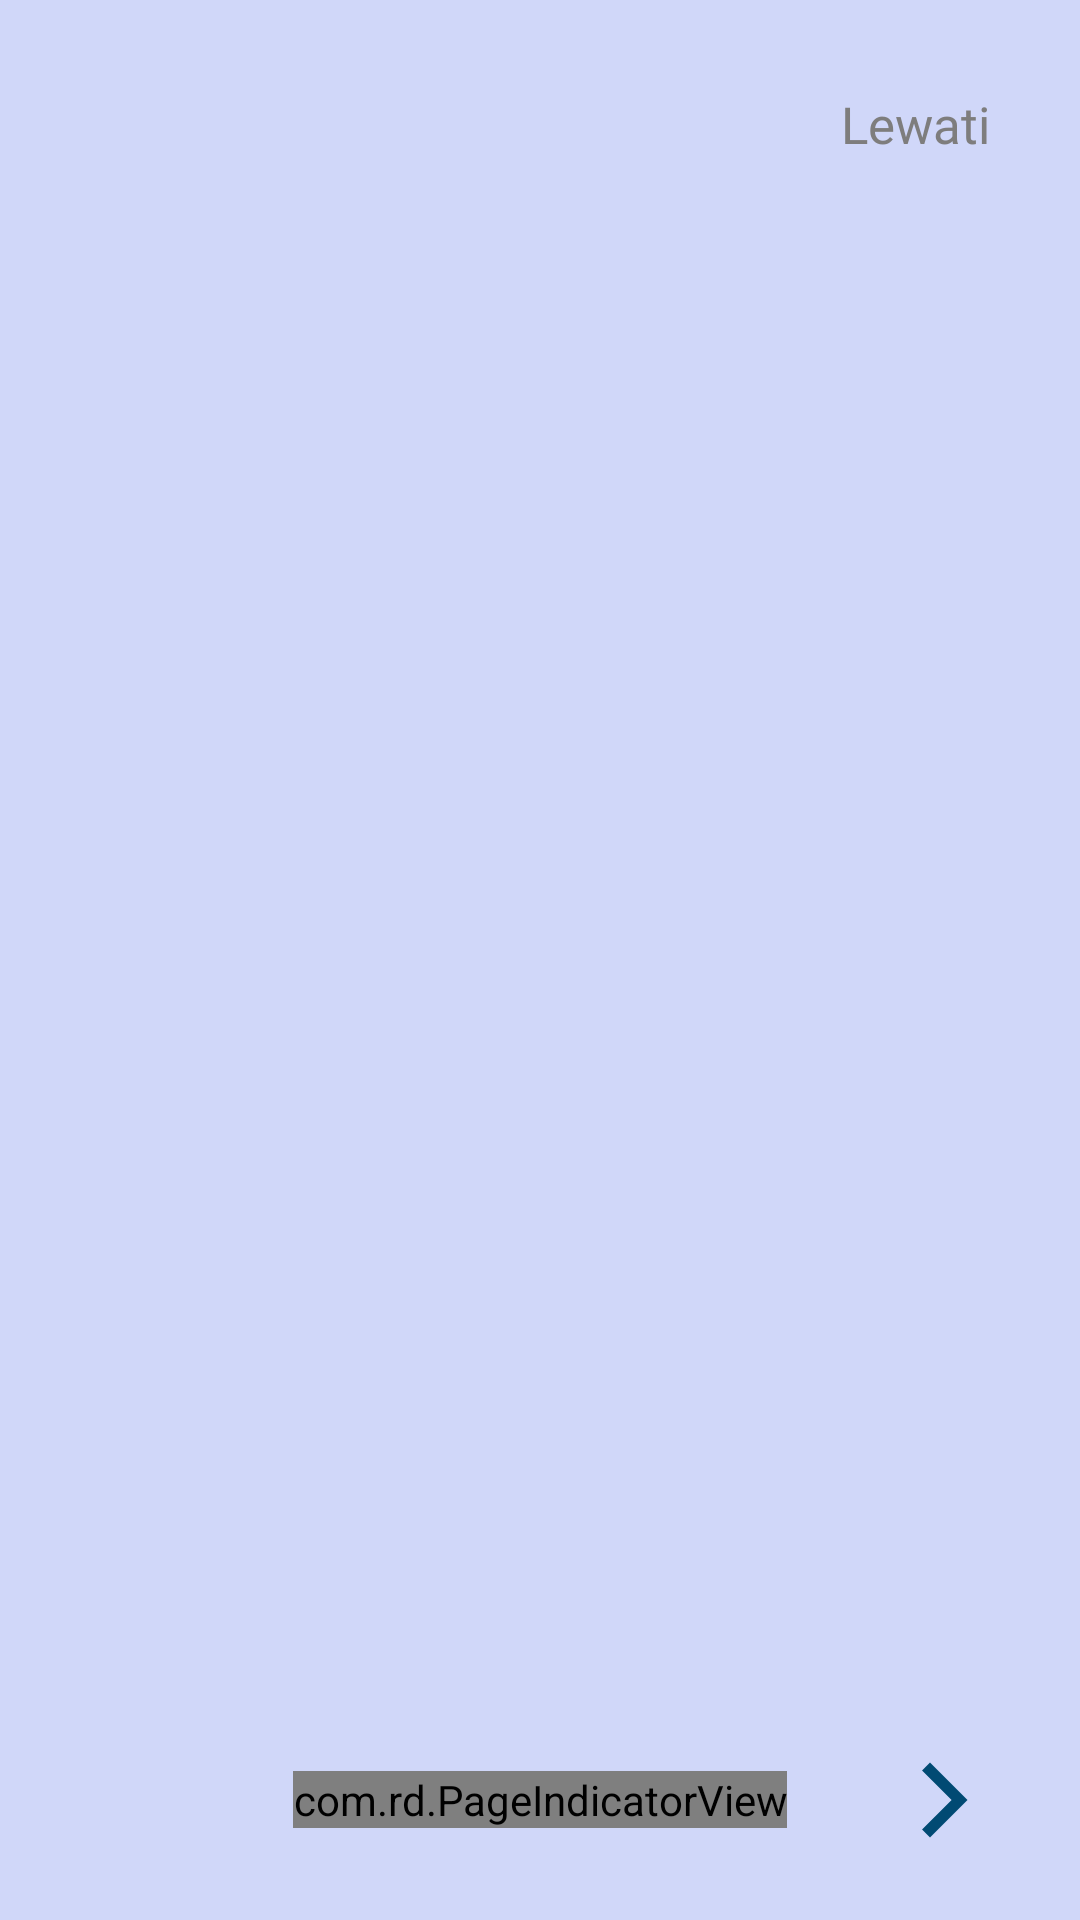

Icon bounding boxes for this 1080x1920 phone screenshot, format (x1, y1, x2, y2):
next: (922, 1762, 968, 1838)
